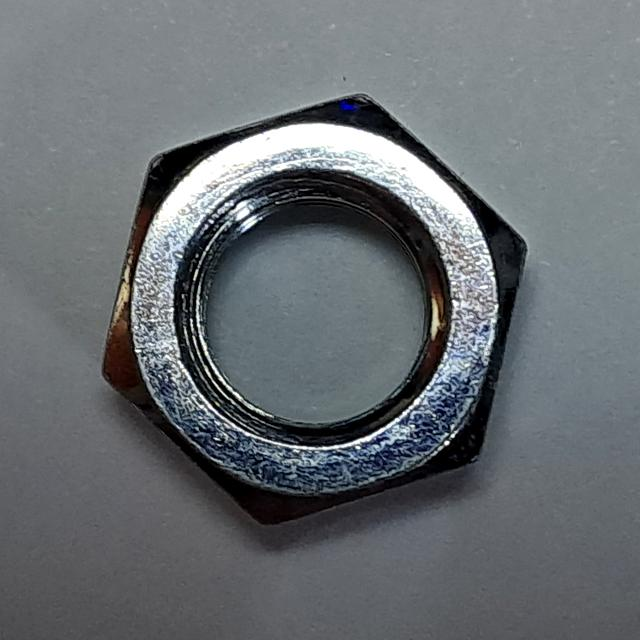Excellent: (87, 77, 549, 541)
